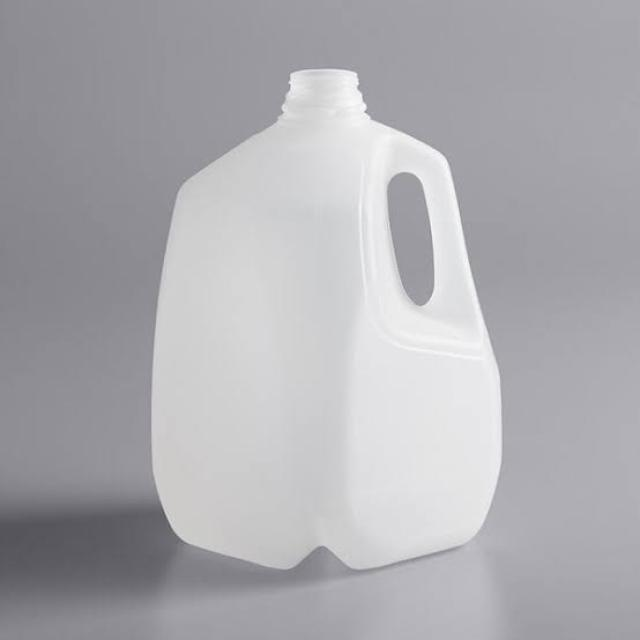plastic bottle: (110, 19, 504, 605)
